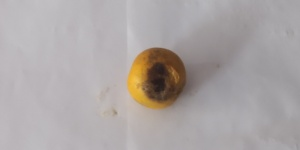BAD: (130, 47, 183, 111)
